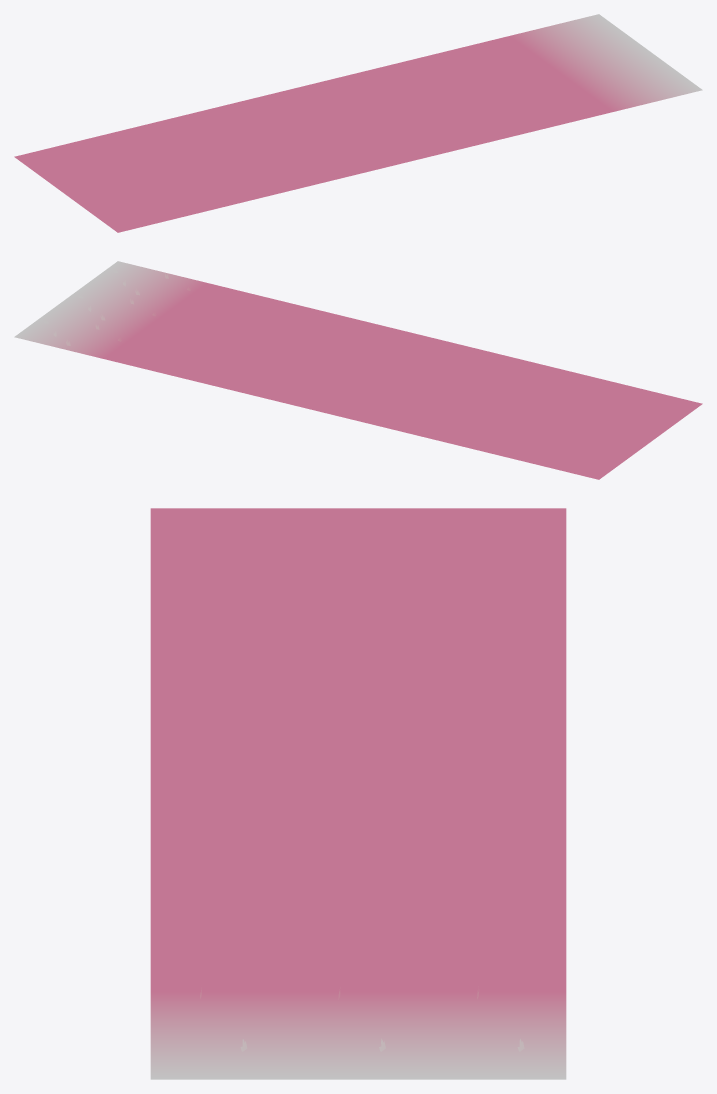
The model's file is Side-forest_Flat_L.glb.
The picture shows the model from 3 angles, top to bottom: view 1: azimuth 30°, elevation 25°; view 2: azimuth 150°, elevation 25°; view 3: azimuth 270°, elevation 25°; orthographic projection. The views are drawn at different scales.
Visible parts, largest first — view 1: Side-forest_Flat_L; view 2: Side-forest_Flat_L; view 3: Side-forest_Flat_L.
Boxes of the visible parts, bbox=[...] form: Side-forest_Flat_L: bbox=[14, 14, 702, 232]; Side-forest_Flat_L: bbox=[14, 261, 702, 479]; Side-forest_Flat_L: bbox=[150, 508, 566, 1079].
Size of the model in its own units: 58.5 by 0.7778 by 18.
